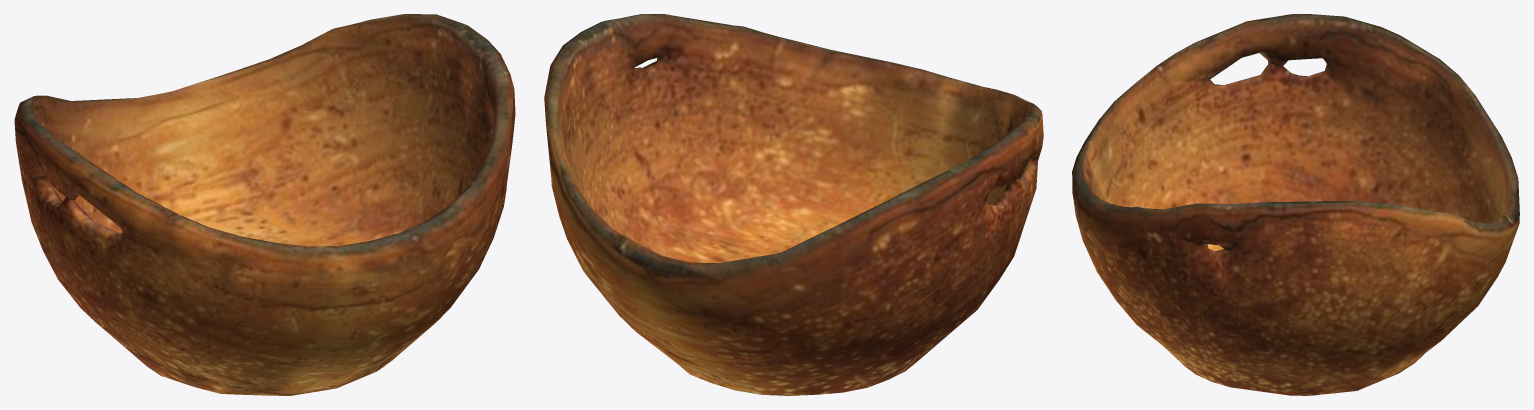
The model's file is wooden_bowl_02.glb.
3 renders of one model, left to right at view 1: azimuth 30°, elevation 25°; view 2: azimuth 150°, elevation 25°; view 3: azimuth 270°, elevation 25°, orthographic. The views are drawn at different scales.
Visible parts, largest first — view 1: wooden_bowl_02; view 2: wooden_bowl_02; view 3: wooden_bowl_02.
Boxes of the visible parts, x1,y1,x2,y2 form: wooden_bowl_02: (14, 14, 515, 395); wooden_bowl_02: (544, 14, 1043, 395); wooden_bowl_02: (1072, 14, 1519, 395).
Size of the model in its own units: 0.1306 by 0.0731 by 0.124.
1 material, 1 textured.
